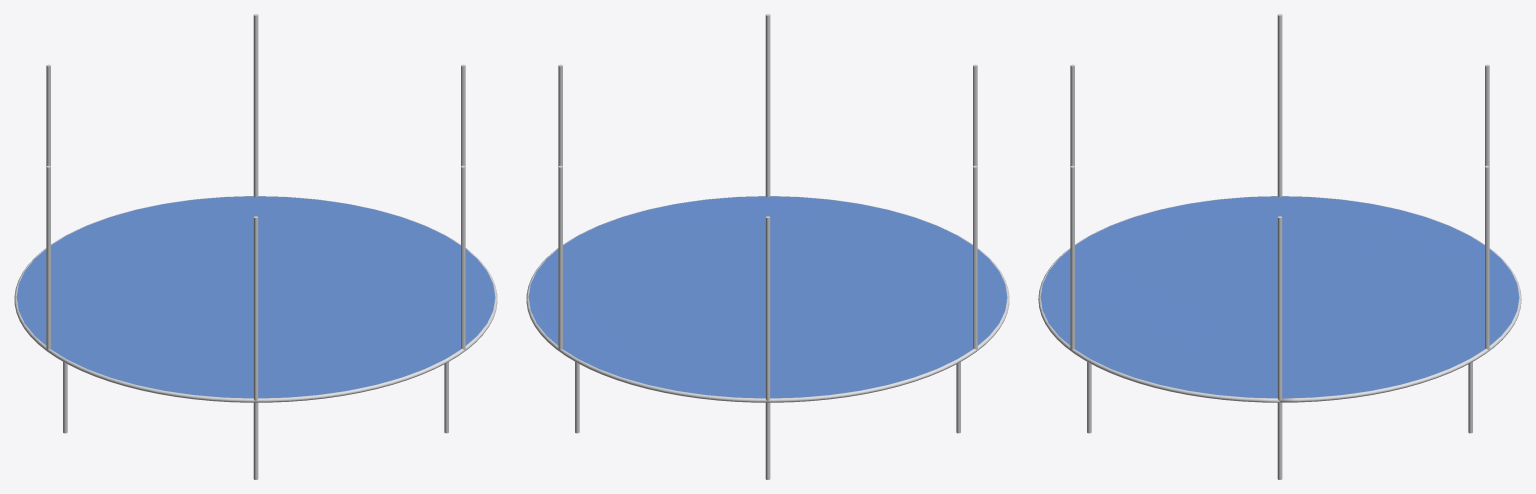
Rendered from trampoline.glb.
3 renders of one model, left to right at view 1: azimuth 30°, elevation 25°; view 2: azimuth 150°, elevation 25°; view 3: azimuth 270°, elevation 25°, orthographic.
Visible parts, largest first — view 1: tramp_pad, tramp_legs, tramp_frame; view 2: tramp_pad, tramp_legs, tramp_frame; view 3: tramp_pad, tramp_legs, tramp_frame.
Boxes of the visible parts, box(x1,y1,x2,y2) form: tramp_pad: box(16, 196, 495, 398); tramp_legs: box(46, 14, 465, 479); tramp_frame: box(14, 196, 497, 402); tramp_pad: box(528, 196, 1007, 398); tramp_legs: box(558, 14, 977, 479); tramp_frame: box(526, 196, 1009, 402); tramp_pad: box(1040, 196, 1519, 398); tramp_legs: box(1070, 14, 1489, 479); tramp_frame: box(1038, 196, 1521, 402).
Bounding box in the file's own units: 4.3 × 2.65 × 4.3.
